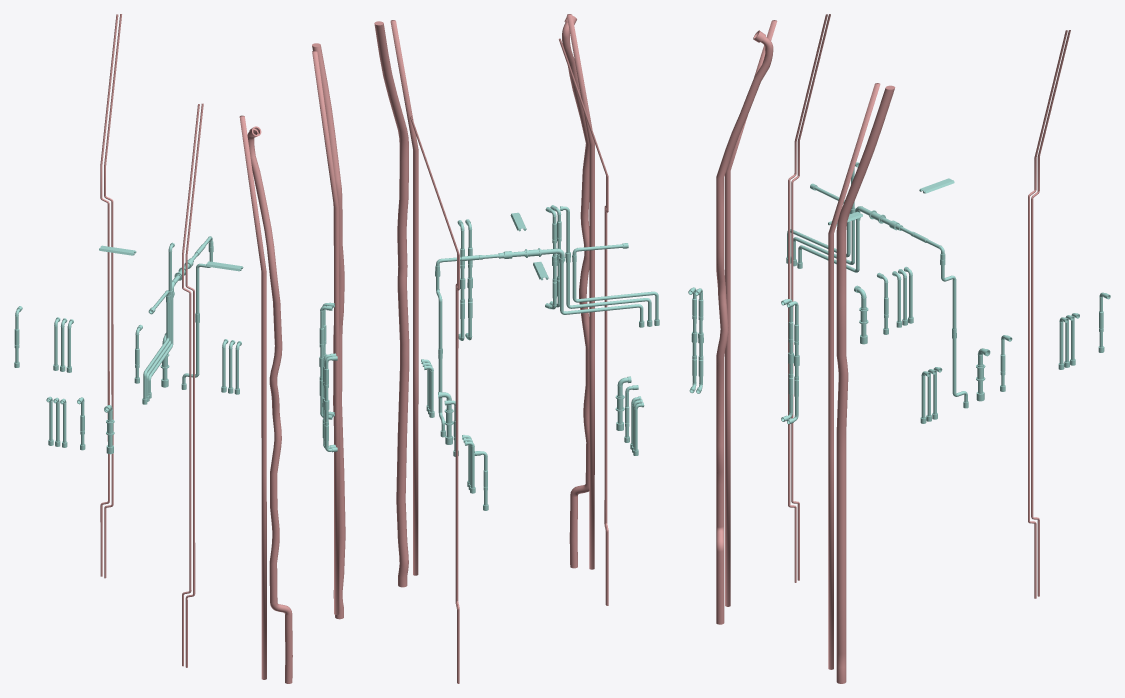
The model's file is [Group] Ranged Connect Props.fbx.
3 views of the same model, side by side, from view 1: azimuth 30°, elevation 25°; view 2: azimuth 150°, elevation 25°; view 3: azimuth 270°, elevation 25° (orthographic). The views are drawn at different scales.
Visible parts, largest first — view 1: Pipe_Big_2_low, Pipe_2_low, Pipe_1_low, Pipe_Big_1_low, Pipe_Horizontal_Small_1_low.001, Pipe_Horizontal_Small_1_low, Pipe_Vertical_Curved_1_low, Pipe_Vertical_7_low, Pipe_Vertical_6_low, Pipe_Vertical_4_low; view 2: Pipe_Big_1_low, Pipe_Big_2_low, Pipe_1_low, Pipe_2_low, Pipe_Horizontal_Small_1_low, Pipe_Horizontal_Small_1_low.001, Pipe_Vertical_Curved_1_low, Pipe_Vertical_4_low, Pipe_Vertical_6_low, Pipe_Vertical_7_low, Pipe_Vertical_Big_2_low; view 3: Pipe_Big_1_low, Pipe_Big_2_low, Pipe_1_low, Pipe_Horizontal_Small_1_low.001, Pipe_2_low, Pipe_Horizontal_Small_1_low, Pipe_Vertical_Curved_1_low, Pipe_Vertical_4_low, Pipe_Vertical_6_low, Pipe_Vertical_7_low.
Boxes of the visible parts, x1=… form: Pipe_Big_2_low: x1=247, y1=126, x2=292, y2=683; Pipe_2_low: x1=239, y1=115, x2=266, y2=679; Pipe_1_low: x1=312, y1=50, x2=339, y2=614; Pipe_Big_1_low: x1=312, y1=43, x2=345, y2=619; Pipe_Horizontal_Small_1_low.001: x1=100, y1=14, x2=121, y2=578; Pipe_Horizontal_Small_1_low: x1=182, y1=103, x2=203, y2=667; Pipe_Vertical_Curved_1_low: x1=142, y1=296, x2=173, y2=404; Pipe_Vertical_7_low: x1=221, y1=339, x2=241, y2=394; Pipe_Vertical_6_low: x1=53, y1=317, x2=73, y2=372; Pipe_Vertical_4_low: x1=46, y1=396, x2=67, y2=447; Pipe_Big_1_low: x1=374, y1=21, x2=409, y2=587; Pipe_Big_2_low: x1=562, y1=16, x2=589, y2=568; Pipe_1_low: x1=390, y1=20, x2=418, y2=575; Pipe_2_low: x1=567, y1=14, x2=594, y2=569; Pipe_Horizontal_Small_1_low: x1=558, y1=38, x2=608, y2=605; Pipe_Horizontal_Small_1_low.001: x1=410, y1=116, x2=459, y2=683; Pipe_Vertical_Curved_1_low: x1=559, y1=257, x2=659, y2=327; Pipe_Vertical_4_low: x1=630, y1=396, x2=644, y2=455; Pipe_Vertical_6_low: x1=462, y1=435, x2=475, y2=493; Pipe_Vertical_7_low: x1=421, y1=359, x2=434, y2=417; Pipe_Vertical_Big_2_low: x1=503, y1=248, x2=565, y2=261; Pipe_Big_1_low: x1=836, y1=85, x2=895, y2=683; Pipe_Big_2_low: x1=716, y1=30, x2=773, y2=624; Pipe_1_low: x1=828, y1=83, x2=880, y2=669; Pipe_Horizontal_Small_1_low.001: x1=1028, y1=30, x2=1070, y2=598; Pipe_2_low: x1=725, y1=20, x2=777, y2=606; Pipe_Horizontal_Small_1_low: x1=788, y1=14, x2=830, y2=582; Pipe_Vertical_Curved_1_low: x1=786, y1=213, x2=860, y2=272; Pipe_Vertical_4_low: x1=892, y1=266, x2=913, y2=327; Pipe_Vertical_6_low: x1=1058, y1=313, x2=1079, y2=369; Pipe_Vertical_7_low: x1=920, y1=367, x2=942, y2=423.
Bounding box in the file's own units: 1168 × 2315 × 1492.
